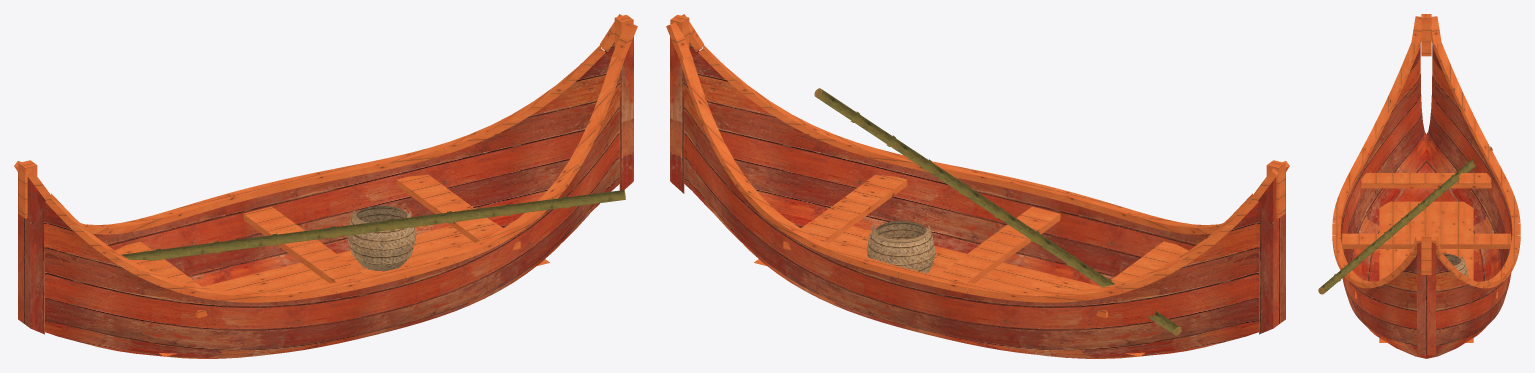
File: qm_rowboat.glb
3 renders of one model, left to right at view 1: azimuth 30°, elevation 25°; view 2: azimuth 150°, elevation 25°; view 3: azimuth 270°, elevation 25°, orthographic. The views are drawn at different scales.
Visible parts, largest first — view 1: hull, inside, wale, floor, bamboo, weave, weave_in; view 2: hull, inside, wale, floor, bamboo, weave, weave_in; view 3: inside, hull, floor, wale, bamboo.
Part boxes in pixels (x1,y1,x2,y2): hull: (18,37,633,358); inside: (93,42,614,286); wale: (14,14,637,302); floor: (115,174,549,356); bamboo: (121,190,625,261); weave: (347,207,416,271); weave_in: (356,205,407,222); hull: (670,37,1285,358); inside: (689,42,1210,286); wale: (666,14,1289,302); floor: (754,174,1188,356); bamboo: (816,89,1179,334); weave: (866,222,935,274); weave_in: (876,221,926,239); inside: (1340,45,1512,357); hull: (1342,242,1511,358); floor: (1341,173,1511,342); wale: (1332,14,1520,288); bamboo: (1320,159,1475,292).
Bounding box in the file's own units: 5.06 × 1.81 × 1.93.
Materials: 8 (8 with a texture image).
